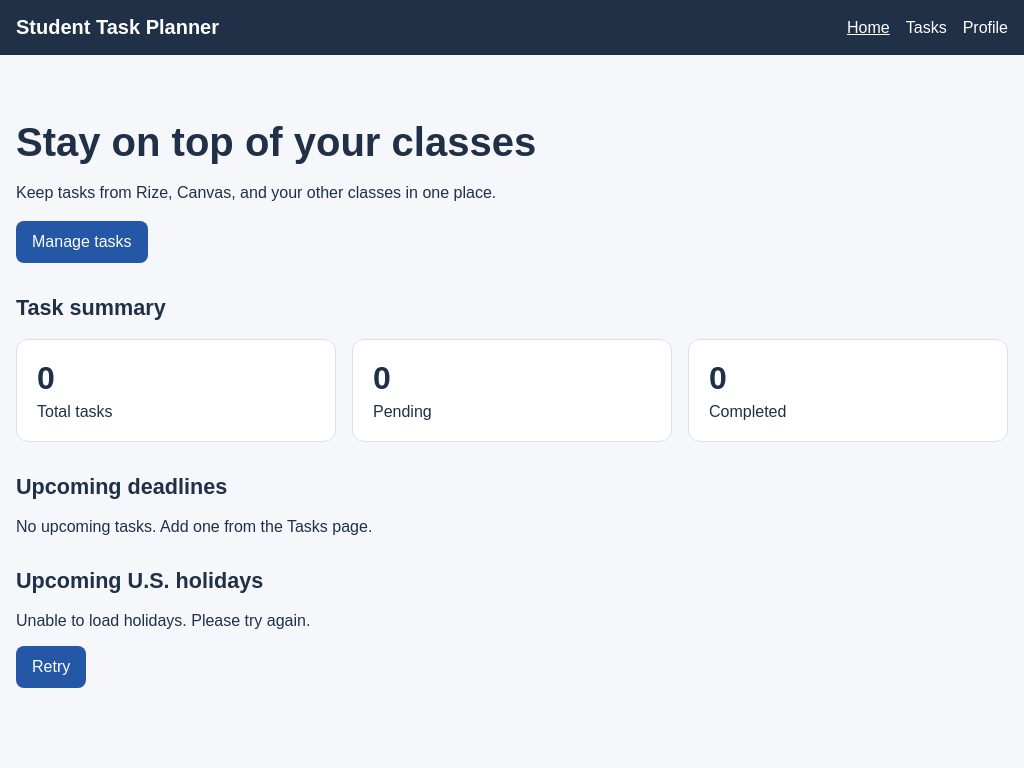
Scenario: Student Task Planner › shows an API error and retries successfully
expect the message shows "Unable to load holidays": met, box [16,612,310,628]
Click the button "Retry" at point(51, 666), box [16,646,86,688]
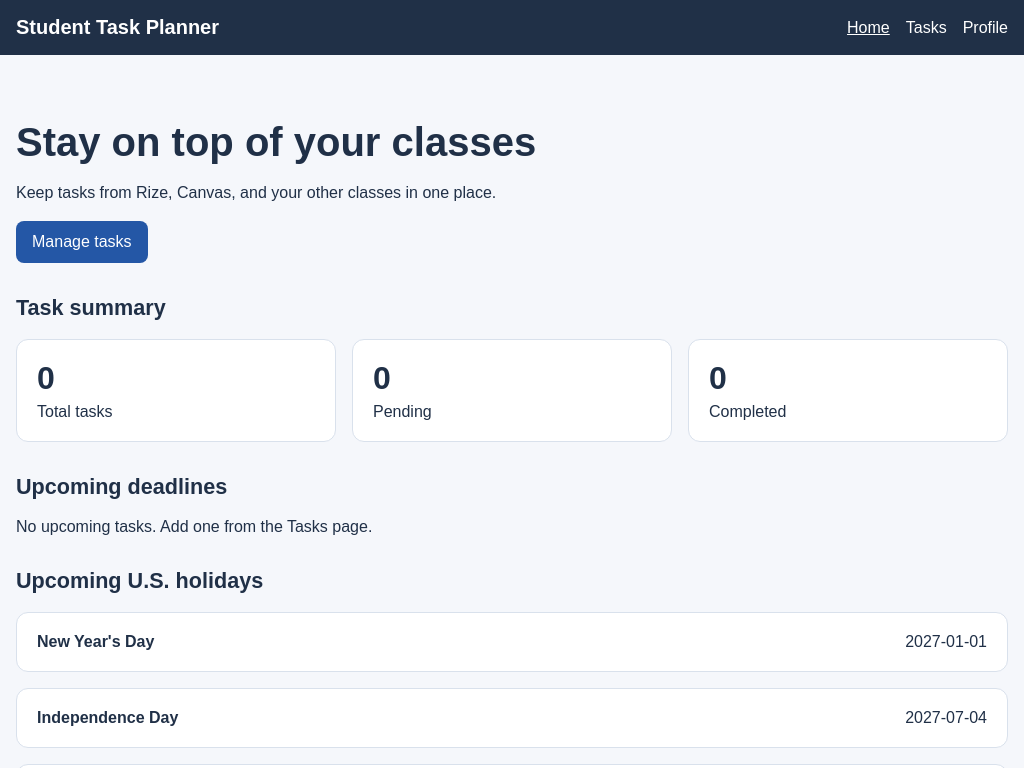
expect the text "New Year's Day" is shown: met, box [37,632,154,650]
